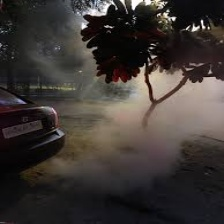smoke: (47, 93, 218, 209)
